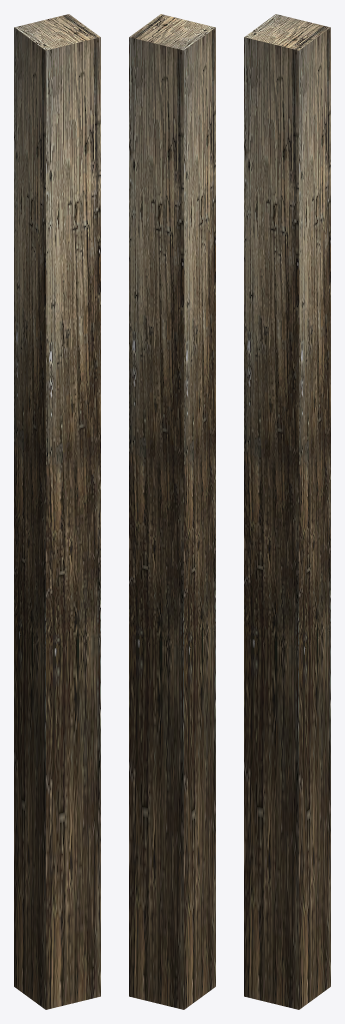
Rendered from BFence1P.glb.
The picture shows the model from 3 angles, left to right: view 1: azimuth 30°, elevation 25°; view 2: azimuth 150°, elevation 25°; view 3: azimuth 330°, elevation 25°; orthographic projection.
Visible parts, largest first — view 1: _BFence1P; view 2: _BFence1P; view 3: _BFence1P.
Part boxes in pixels (x1=…): _BFence1P: x1=14, y1=14, x2=100, y2=1009; _BFence1P: x1=129, y1=14, x2=215, y2=1009; _BFence1P: x1=244, y1=14, x2=330, y2=1009.
Size of the model in its own units: 0.15 by 2.5 by 0.15.
Materials: 1 (1 with a texture image).
